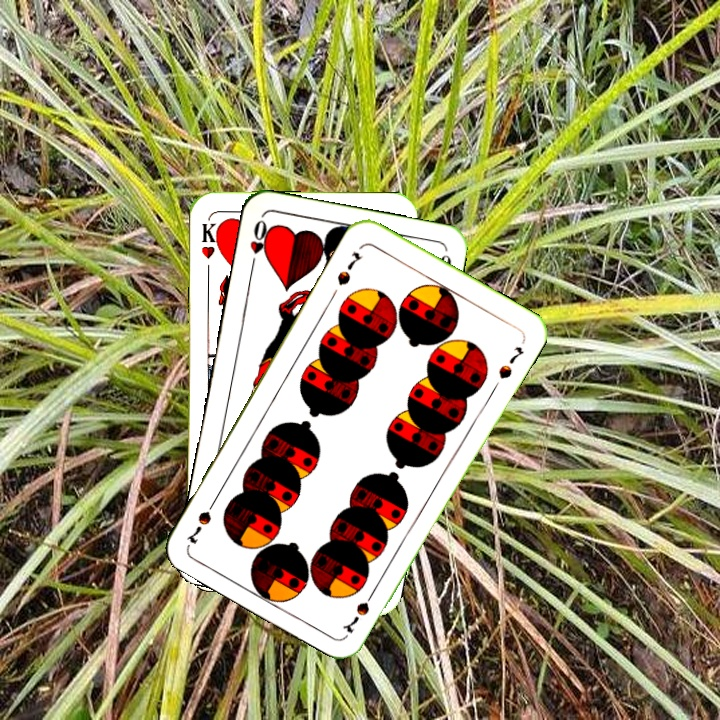HK: (197, 216, 223, 275)
HO: (246, 215, 274, 273)
S7: (339, 584, 379, 636), (333, 248, 367, 288)
